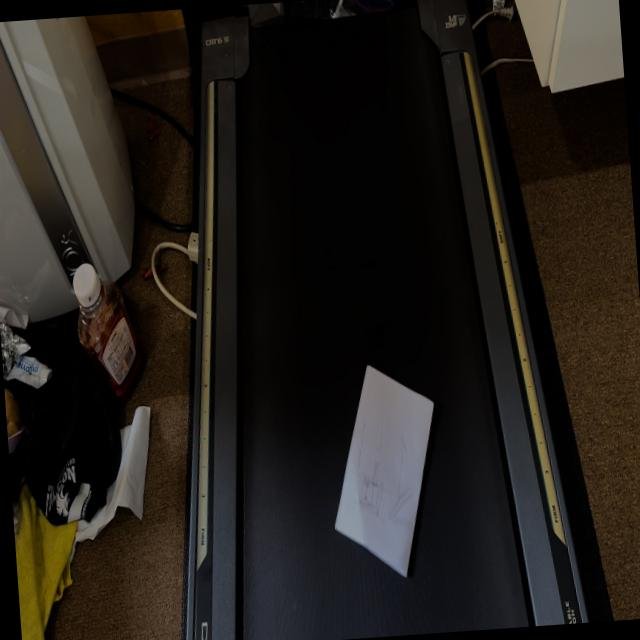Recycle: (326, 332, 456, 616)
